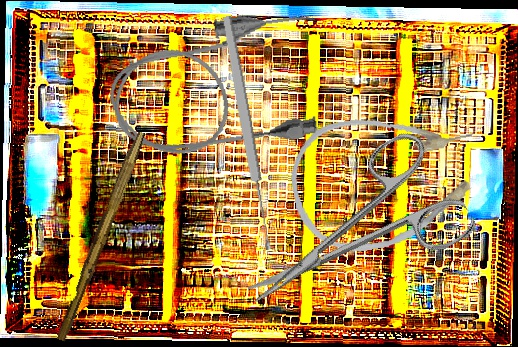Cannula: (99, 3, 335, 170), (283, 99, 490, 262)
Iris Scissors: (218, 123, 480, 345)
Scalpel Handle: (54, 128, 147, 344)
Surgical Spoon: (220, 15, 275, 251)
